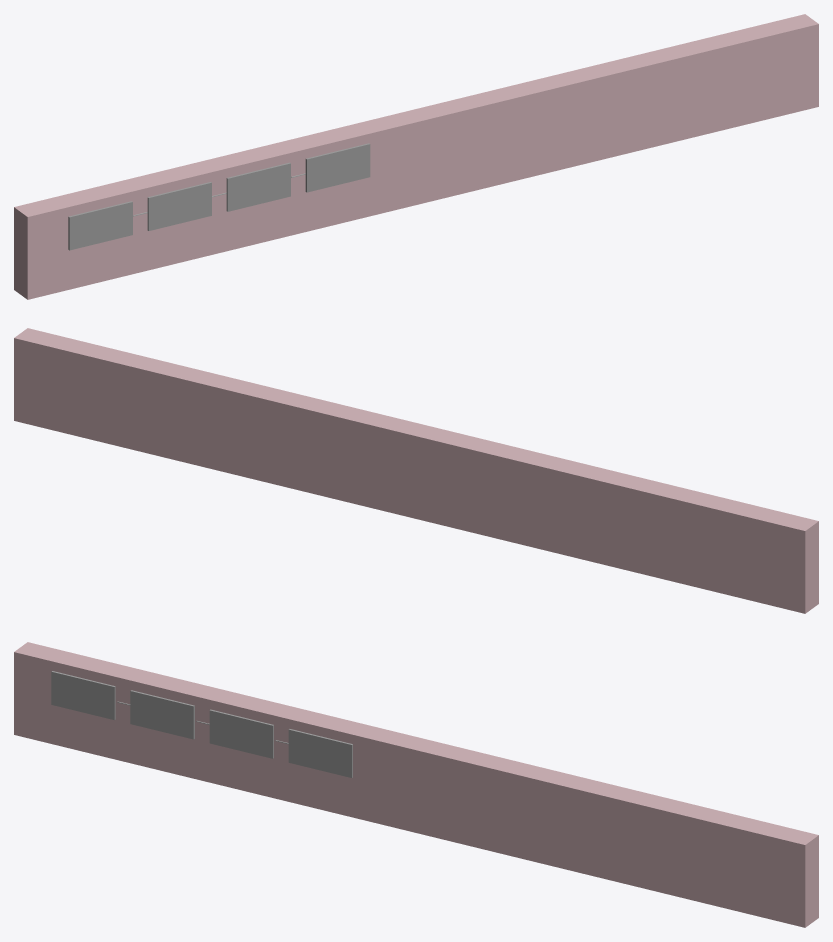
File: board.glb
3 views of the same model, one above another, from view 1: azimuth 30°, elevation 25°; view 2: azimuth 150°, elevation 25°; view 3: azimuth 330°, elevation 25° (orthographic).
Visible parts, largest first — view 1: Substrate_Layer_0, Component_Adder[3], Component_Adder[0], Component_Adder[1], Component_Adder[2]; view 2: Substrate_Layer_0; view 3: Substrate_Layer_0, Component_Adder[0], Component_Adder[1], Component_Adder[2], Component_Adder[3].
Part boxes in pixels (left/top/right/bottom): Substrate_Layer_0: left=14, top=14, right=818, bottom=299; Component_Adder[3]: left=305, top=143, right=370, bottom=192; Component_Adder[0]: left=68, top=201, right=132, bottom=250; Component_Adder[1]: left=147, top=182, right=211, bottom=230; Component_Adder[2]: left=226, top=162, right=290, bottom=211; Substrate_Layer_0: left=14, top=328, right=818, bottom=613; Substrate_Layer_0: left=14, top=642, right=818, bottom=927; Component_Adder[0]: left=51, top=671, right=115, bottom=719; Component_Adder[1]: left=130, top=690, right=194, bottom=739; Component_Adder[2]: left=209, top=709, right=273, bottom=758; Component_Adder[3]: left=288, top=729, right=352, bottom=777.
Size of the model in its own units: 0.1 by 0.01 by 0.0035.
